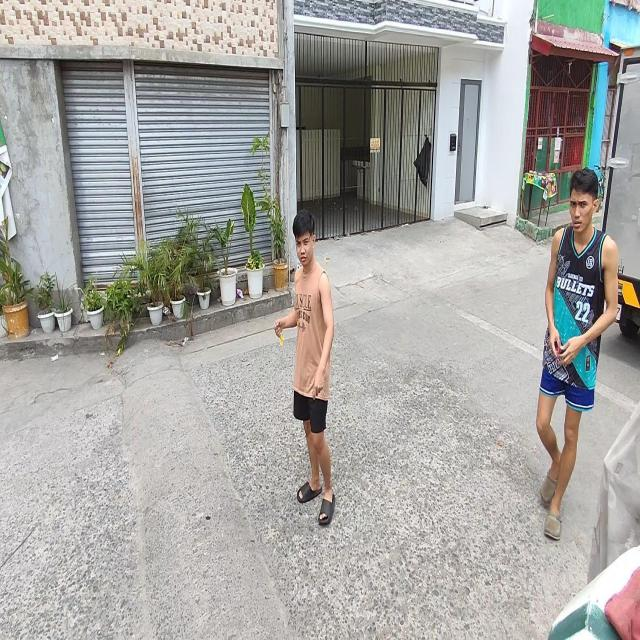scissor: (276, 322, 284, 346)
